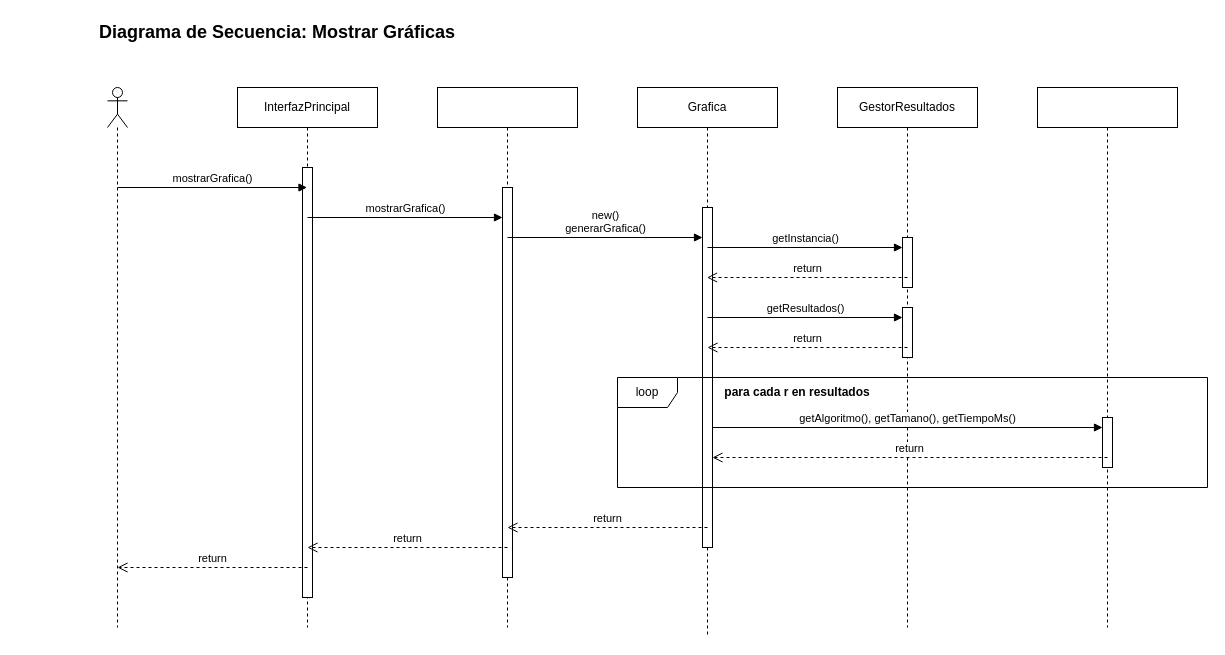
This 1225x655 diagram has some shape labels left out. Here are the shapes that lost their labels. From the top down, the box of each, then its label:
(436, 86, 578, 628): ControladorEjecucion
(1036, 86, 1178, 628): Resultado
